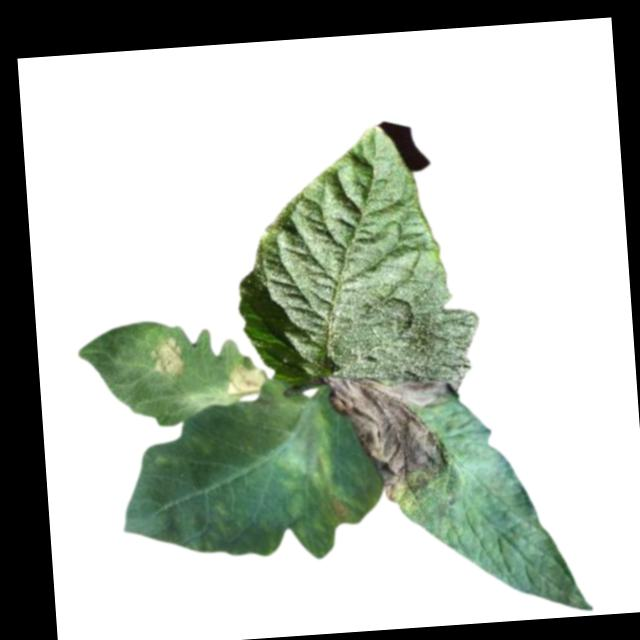Late_blight: (325, 368, 467, 529), (266, 389, 332, 484), (148, 333, 189, 385), (226, 361, 266, 398)
healthy: (226, 119, 484, 395)
